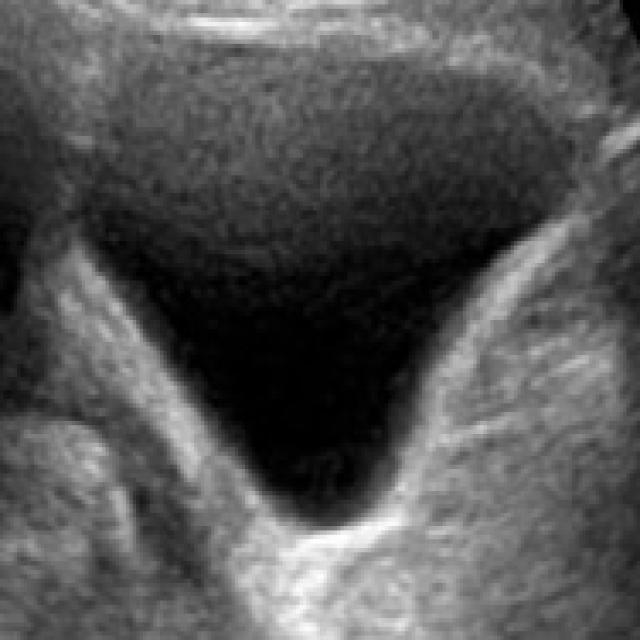bladder: (52, 7, 607, 598)
